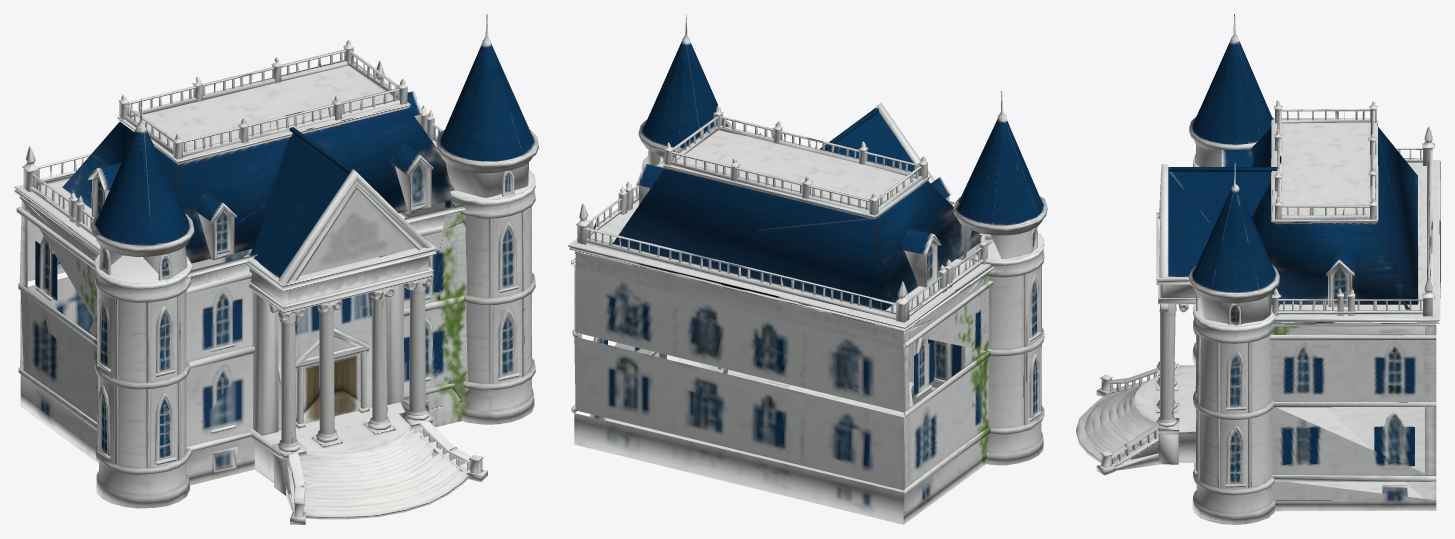
The model's file is dorm_blue.glb.
The picture shows the model from 3 angles, left to right: view 1: azimuth 30°, elevation 25°; view 2: azimuth 150°, elevation 25°; view 3: azimuth 270°, elevation 25°; orthographic projection. The views are drawn at different scales.
Visible parts, largest first — view 1: geometry_0; view 2: geometry_0; view 3: geometry_0.
Part boxes in pixels (bbox=[...]): geometry_0: bbox=[14, 14, 538, 524]; geometry_0: bbox=[568, 15, 1047, 524]; geometry_0: bbox=[1076, 14, 1440, 524].
Bounding box in the file's own units: 0.9575 × 0.8252 × 0.791.
1 material, 1 textured.
